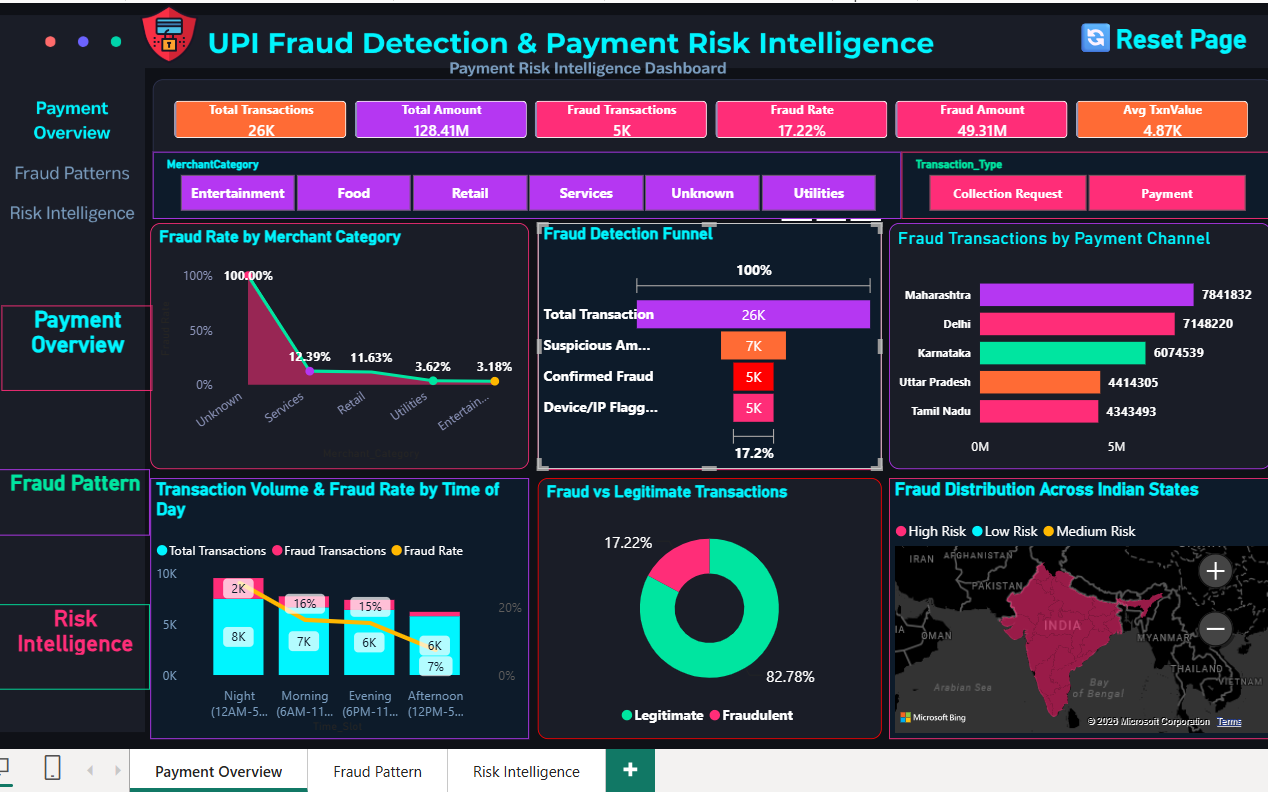

What the dashboard file says about the page in this screenshot:
{"tool":"powerbi","page":{"name":"Payment Overview","canvas":[1230,720],"ordinal":0},"visuals":[{"type":"cardVisual","fields":{"Data":["Measures (2).Total Transactions","Measures (2).Total Amount","Measures (2).Fraud Transactions","Measures (2).Fraud Rate","Measures (2).Fraud Amount","Measures (2).Avg Transaction Value"]},"box":[148.4,73.6,1082.2,78.4],"z":0},{"type":"clusteredBarChart","title":"Fraud Transactions by Payment Channel","fields":{"Category":["upi_fraud_db transactions.State"],"Y":["Measures (2).Fraud Amount"]},"box":[859,212.3,369.2,237.7],"z":1000},{"type":"pieChart","title":"Fraud vs Legitimate Transactions","fields":{"Category":["upi_fraud_db transactions.Fraud_Label"],"Y":["Measures (2).Total Transactions"]},"box":[520,458.4,331.8,252.1],"z":2000},{"type":"lineChart","title":"Fraud Rate by Merchant Category","fields":{"Category":["upi_fraud_db transactions.Merchant_Category"],"Y":["Measures (2).Fraud Rate"]},"box":[146,212.3,365.6,237.7],"z":3000},{"type":"lineStackedColumnComboChart","title":"Transaction Volume & Fraud Rate by Time of Day","fields":{"Category":["upi_fraud_db transactions.Time_Slot"],"Y":["Measures (2).Total Transactions","Measures (2).Fraud Transactions"],"Y2":["Measures (2).Fraud Rate"]},"box":[146,458.4,365.6,252.1],"z":4000},{"type":"filledMap","title":"Fraud Distribution Across Indian States","fields":{"Category":["upi_fraud_db transactions.State"],"Series":["upi_fraud_db transactions.Risk_Tier"]},"box":[859,458.4,371.6,252.1],"z":5000},{"type":"funnel","title":"Fraud Detection Funnel","fields":{"Category":["Fraud_Funnel.Stage"],"Y":["Sum(Fraud_Funnel.Count)"]},"box":[520,212.3,332.2,238.3],"z":6000},{"type":"slicer","fields":{"Values":["upi_fraud_db transactions.Merchant_Category"]},"box":[148.4,143.6,722.7,65.1],"z":7000},{"type":"actionButton","title":" 🔄Reset Page","box":[1019.4,13.3,205.1,47.1],"z":8000},{"type":"slicer","fields":{"Values":["upi_fraud_db transactions.Transaction_Type"]},"box":[871.1,143.6,357.1,65.1],"z":9000},{"type":"actionButton","title":"Payment Overview","box":[2.7,291.5,146,82],"z":10000},{"type":"actionButton","title":"Fraud Pattern","box":[0,450.6,145.7,64.2],"z":11000},{"type":"actionButton","title":"Risk Intelligence","box":[0,580.2,146,82],"z":12000},{"type":"image","box":[120.6,0,86.9,60.3],"z":13000}]}

Visuals, with their boxes on the page's 1230x720 design canvas (x1, y1, x2, y2). These are canvas units, not pixel positions in the 1268x792 screenshot, which may show the page scaled, cropped or inside an application window:
cardVisual - Measures (2).Total Transactions x Measures (2).Total Amount: rect(148, 74, 1231, 152)
"Fraud Transactions by Payment Channel" clusteredBarChart: rect(859, 212, 1228, 450)
"Fraud vs Legitimate Transactions" pieChart: rect(520, 458, 852, 710)
"Fraud Rate by Merchant Category" lineChart: rect(146, 212, 512, 450)
"Transaction Volume & Fraud Rate by Time of Day" lineStackedColumnComboChart: rect(146, 458, 512, 710)
"Fraud Distribution Across Indian States" filledMap: rect(859, 458, 1231, 710)
"Fraud Detection Funnel" funnel: rect(520, 212, 852, 451)
slicer - upi_fraud_db transactions.Merchant_Category: rect(148, 144, 871, 209)
" 🔄Reset Page" actionButton: rect(1019, 13, 1224, 60)
slicer - upi_fraud_db transactions.Transaction_Type: rect(871, 144, 1228, 209)
"Payment Overview" actionButton: rect(3, 292, 149, 374)
"Fraud Pattern" actionButton: rect(0, 451, 146, 515)
"Risk Intelligence" actionButton: rect(0, 580, 146, 662)
image: rect(121, 0, 208, 60)
